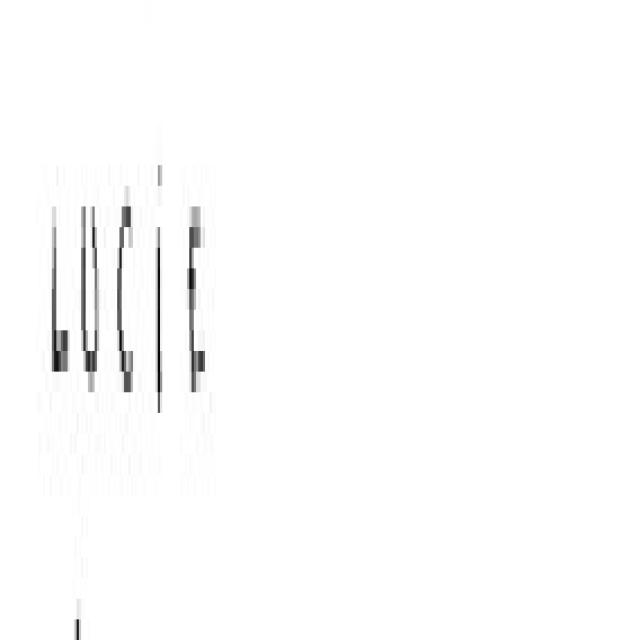C: (111, 193, 142, 600)
E: (185, 130, 218, 637)
I: (148, 162, 177, 594)
L: (41, 144, 79, 594)
U: (79, 161, 108, 510)
